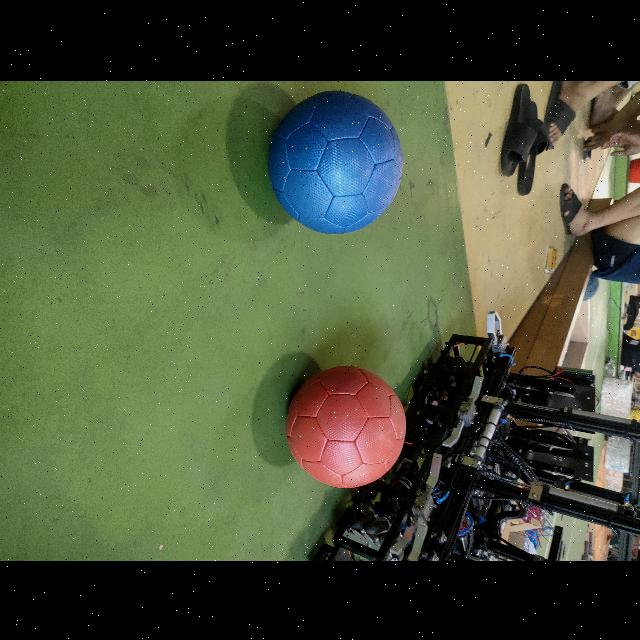B: (269, 90, 403, 233)
R: (287, 366, 405, 487)
